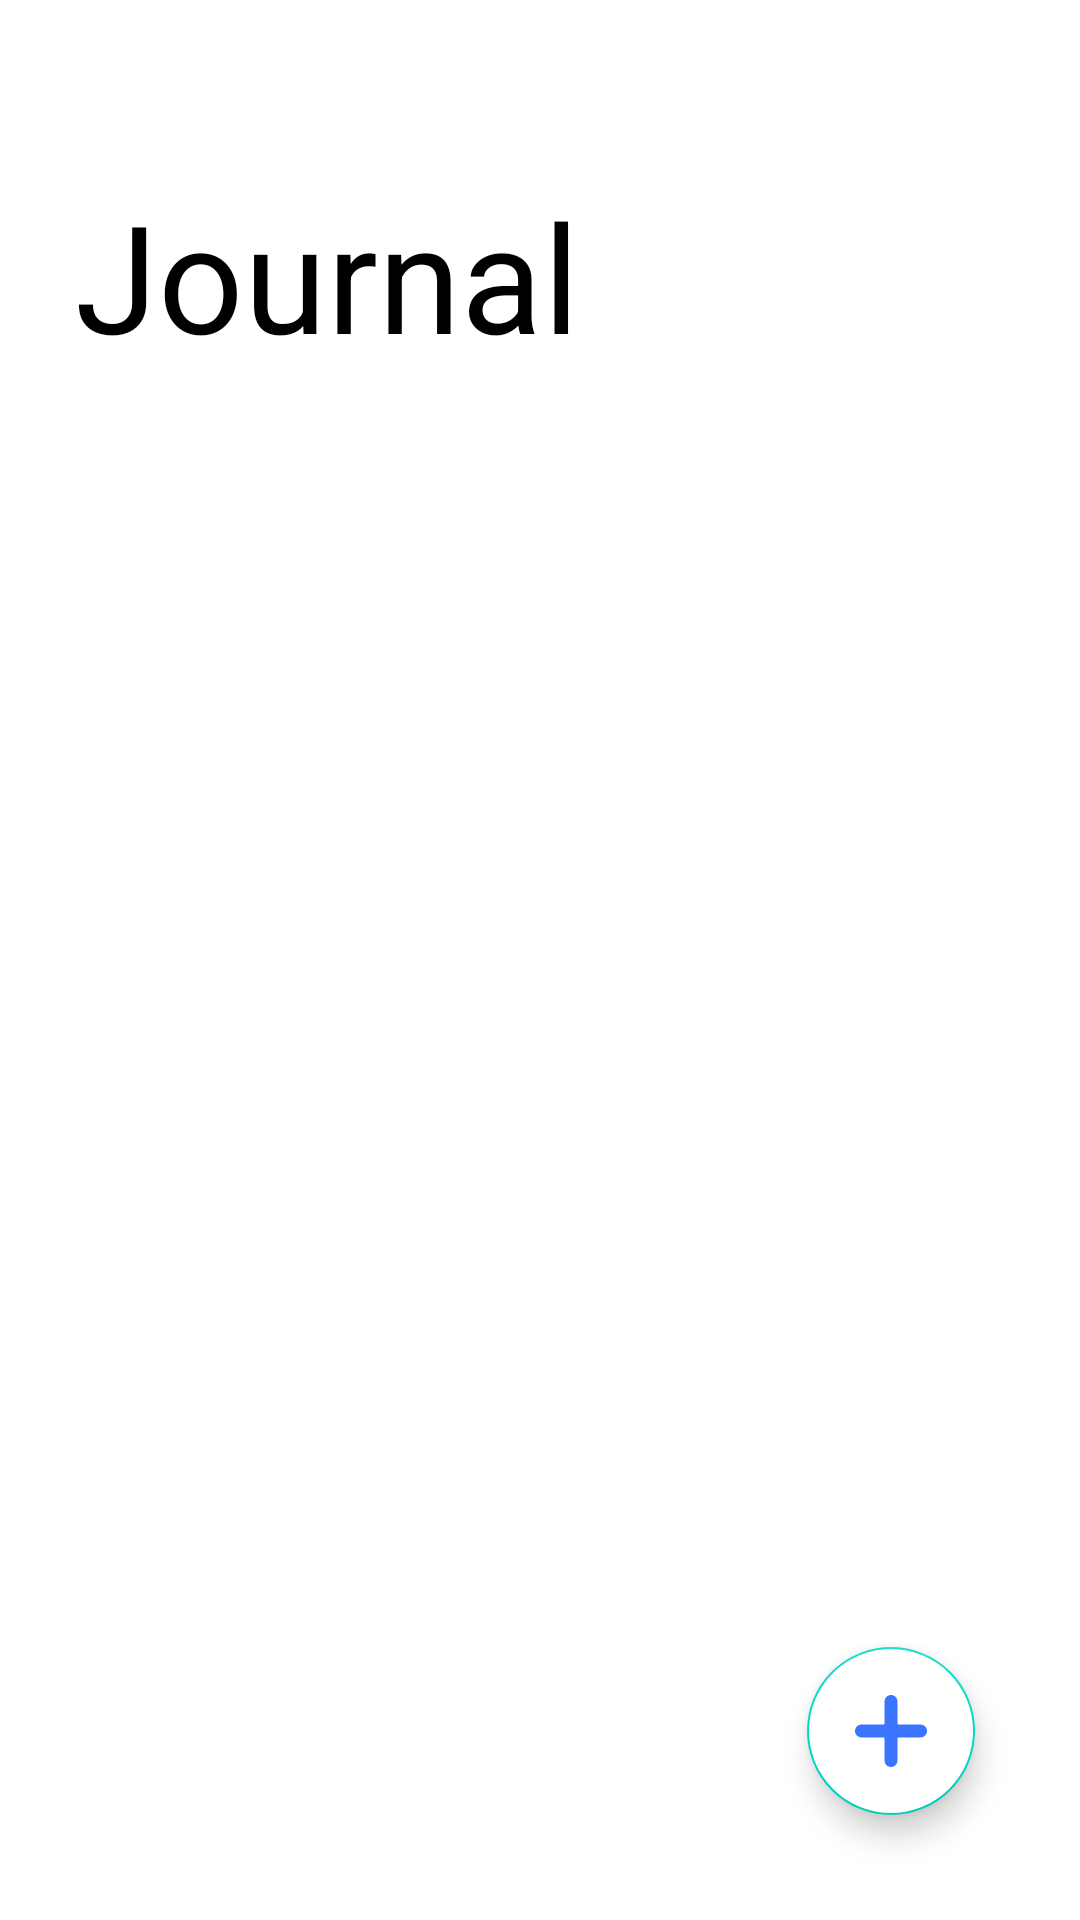

Screen size 1080*1920. Icon name, then its center in pixels as point (x, y):
add: point (891, 1731)
